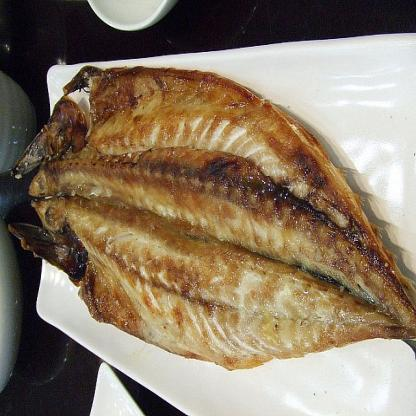Peixe: (13, 66, 398, 377)
